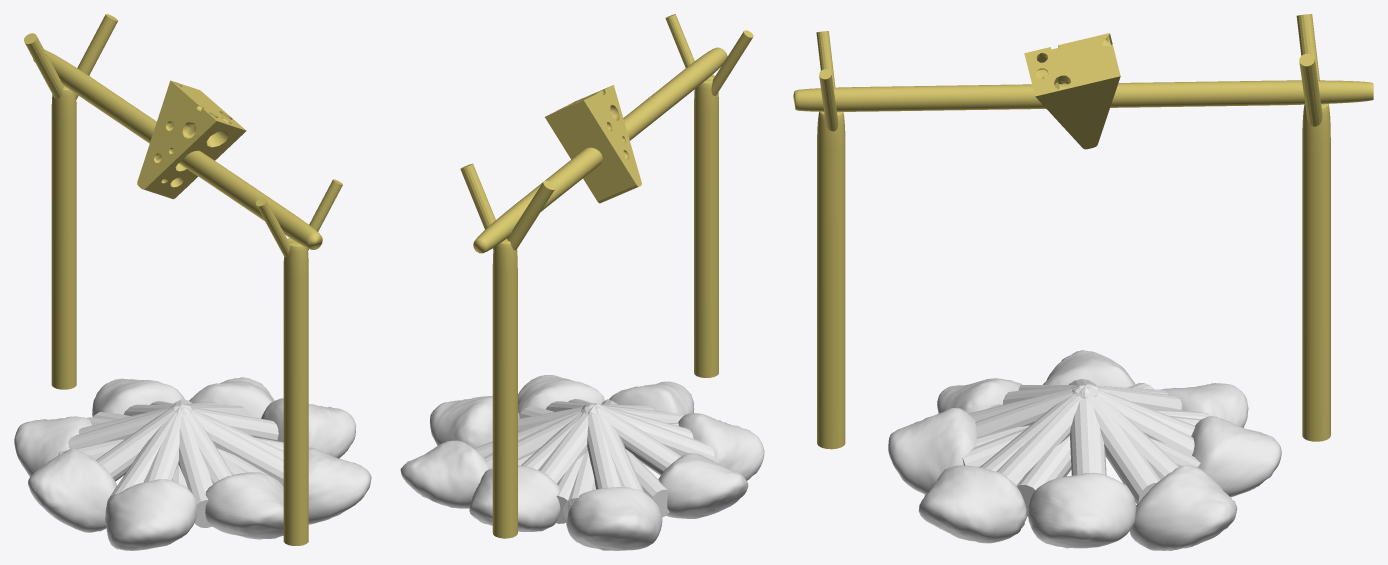
File: Camp_Fire.fbx
3 renders of one model, left to right at view 1: azimuth 30°, elevation 25°; view 2: azimuth 150°, elevation 25°; view 3: azimuth 270°, elevation 25°, orthographic. The views are drawn at different scales.
Visible parts, largest first — view 1: rock.001, Cylinder.025, bout de bois, cheese; view 2: rock.001, Cylinder.025, bout de bois, cheese; view 3: rock.001, Cylinder.025, bout de bois, cheese.
Part boxes in pixels (left/top/right/bottom): rock.001: left=14, top=377, right=371, bottom=550; Cylinder.025: left=24, top=14, right=342, bottom=545; bout de bois: left=58, top=399, right=283, bottom=527; cheese: left=137, top=80, right=246, bottom=199; rock.001: left=400, top=375, right=764, bottom=550; Cylinder.025: left=460, top=14, right=753, bottom=538; bout de bois: left=476, top=399, right=714, bottom=523; cheese: left=545, top=85, right=641, bottom=203; rock.001: left=888, top=350, right=1281, bottom=550; Cylinder.025: left=793, top=14, right=1373, bottom=449; bout de bois: left=962, top=379, right=1211, bottom=516; cheese: left=1024, top=33, right=1120, bottom=149.
Size of the model in its own units: 111 by 140 by 159.
